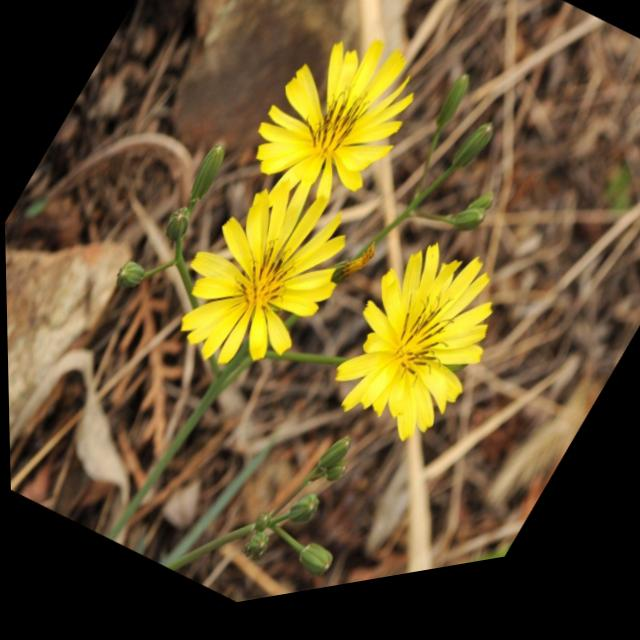Flower: (149, 147, 379, 419), (301, 225, 529, 489), (230, 8, 441, 249)
